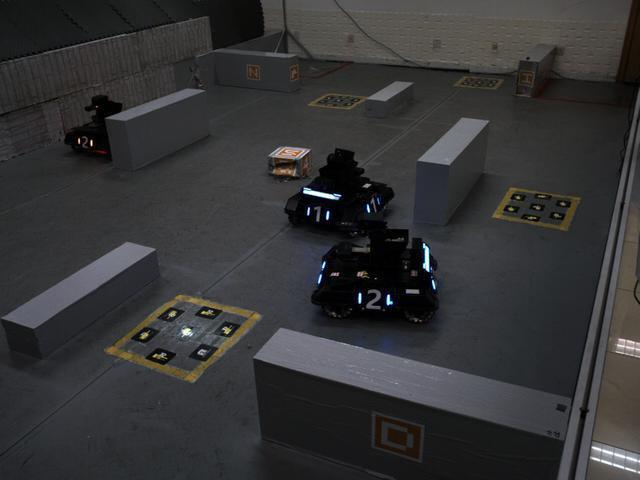armor: (354, 285, 394, 316), (301, 200, 337, 231), (69, 129, 101, 154), (362, 190, 383, 221)
